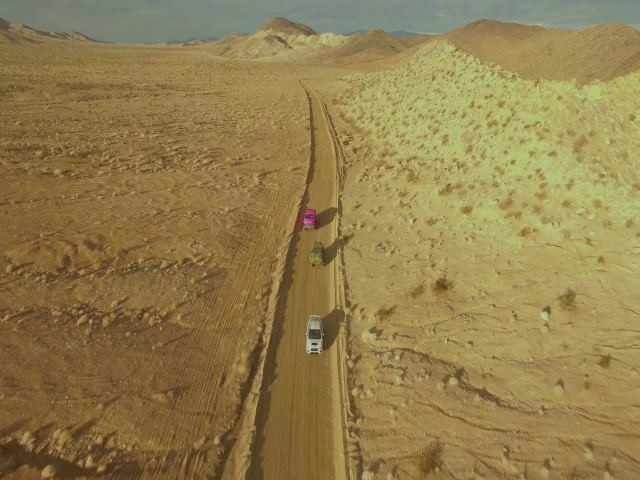vehicle: (305, 314, 324, 353), (310, 239, 325, 267), (301, 207, 317, 230)
